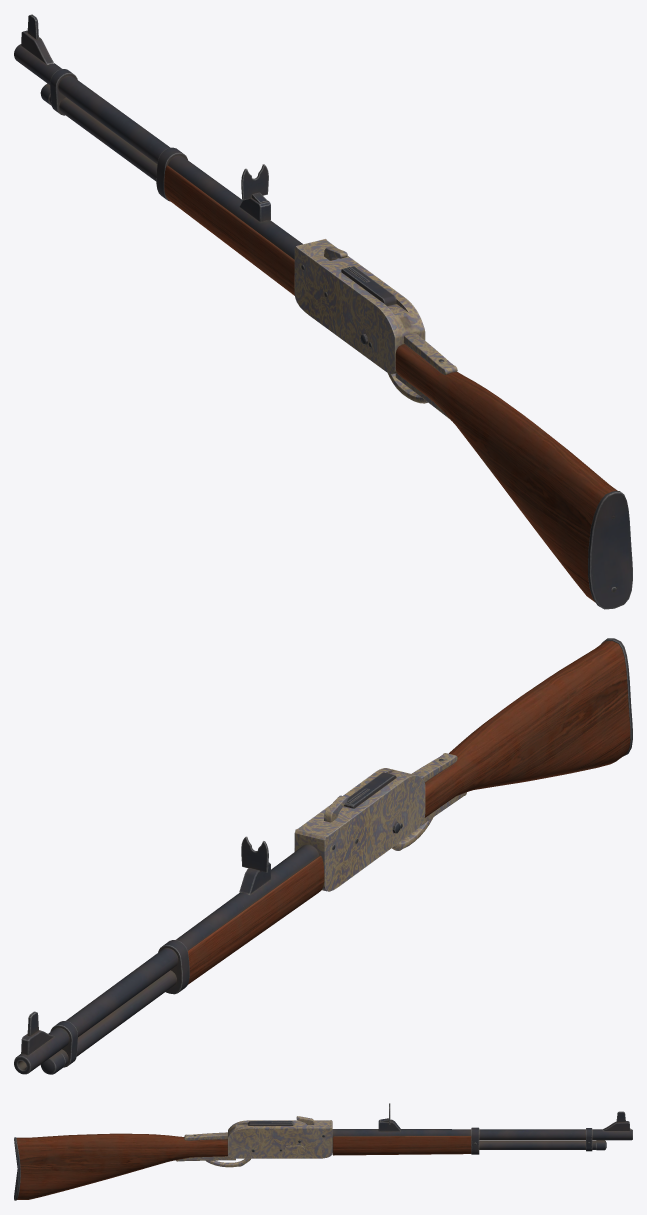
Rendered from lever-rifle.glb.
The picture shows the model from 3 angles, top to bottom: view 1: azimuth 30°, elevation 25°; view 2: azimuth 150°, elevation 25°; view 3: azimuth 270°, elevation 25°; orthographic projection. The views are drawn at different scales.
Visible parts, largest first — view 1: steel, stock, forend; view 2: steel, stock, forend, bolt; view 3: steel, stock, forend, lever, bolt.
Boxes of the visible parts, x1,y1,x2,y2 form: steel: (14, 14, 632, 609); stock: (395, 344, 617, 602); forend: (164, 165, 294, 295); steel: (14, 638, 632, 1074); stock: (424, 641, 630, 817); forend: (187, 850, 324, 984); bolt: (344, 772, 396, 808); steel: (14, 1103, 632, 1200); stock: (16, 1133, 227, 1199); forend: (332, 1136, 471, 1155); lever: (206, 1158, 250, 1167); bolt: (248, 1121, 293, 1125).
Size of the model in its own units: 0.0434 by 0.1715 by 1.03.
Materials: 2 (2 with a texture image).
